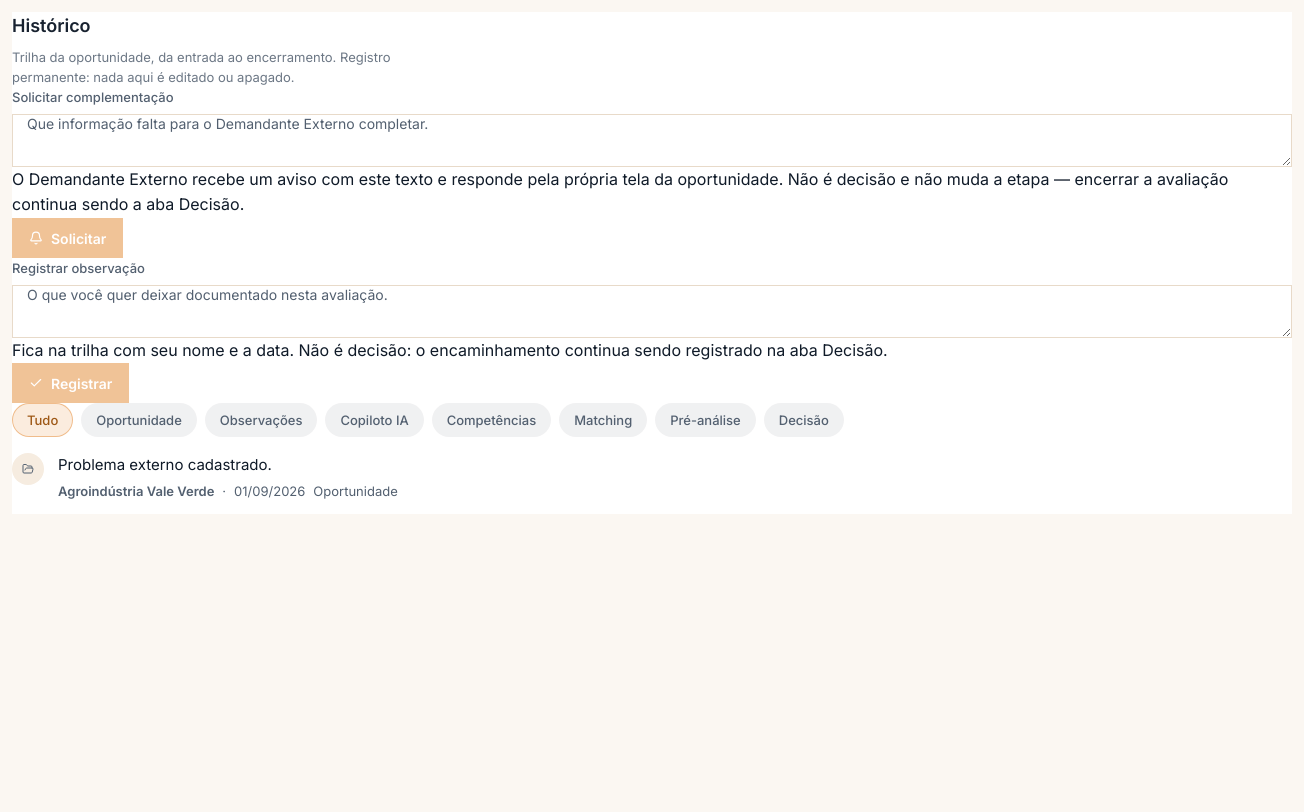
Test: AbaHistorico — pedido de complementação (PB26) › mostra o erro da API e mantém o texto para tentar de novo
Step 1. Type "Faltam os laudos." into the text box labelled "Solicitar complementação" → (652, 140), box [12, 114, 1292, 167]
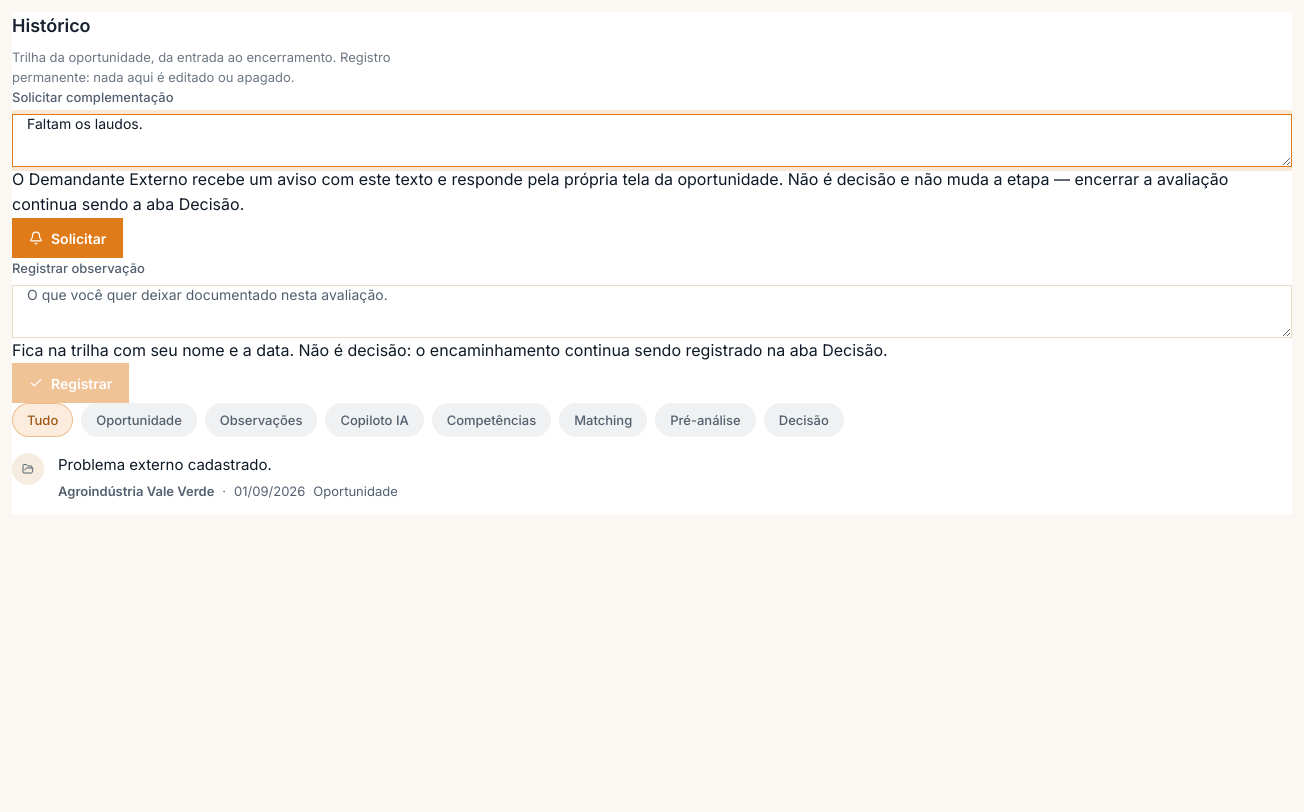
Step 2. Click the button "Solicitar" → (68, 238), box [12, 218, 123, 258]
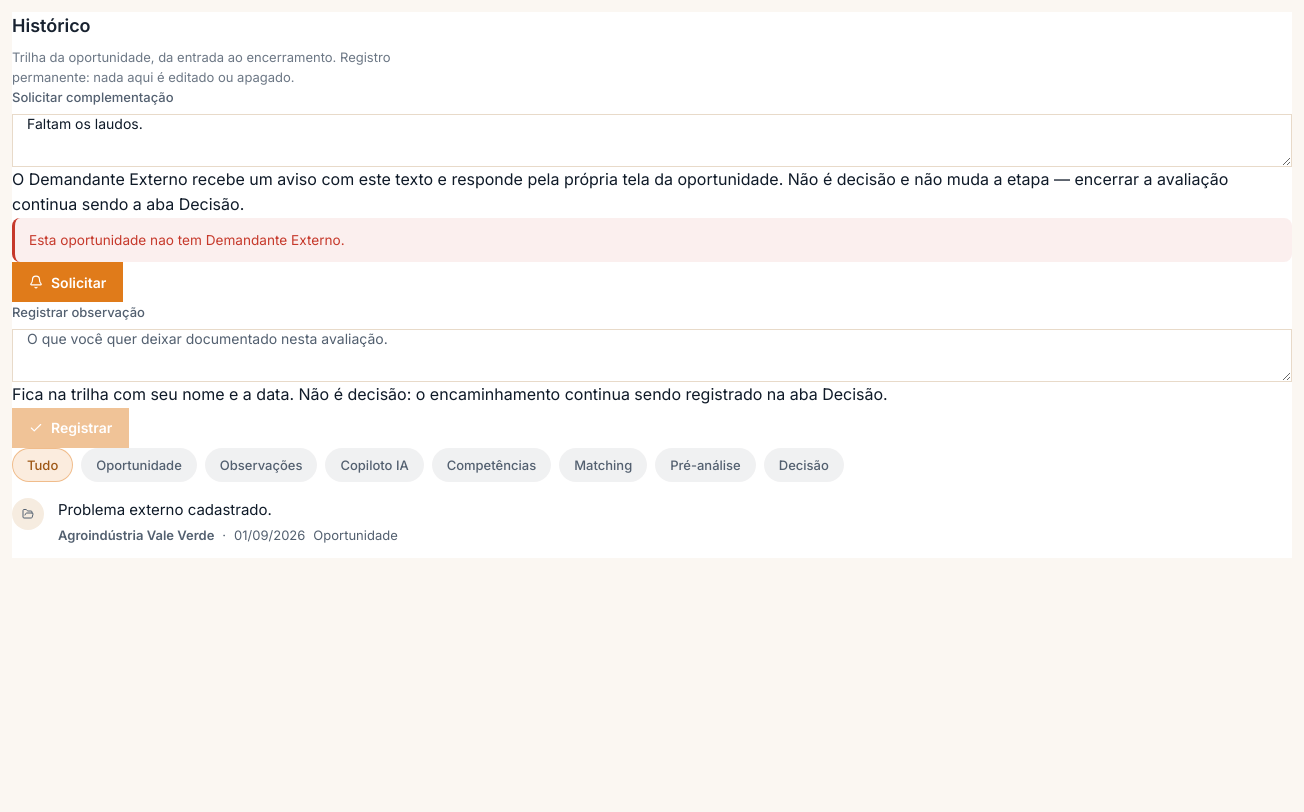
Expected: the text "Esta oportunidade nao tem Demandante Externo." is shown, [12, 218, 1292, 262]
